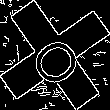O_NE: (22, 23, 88, 87)
